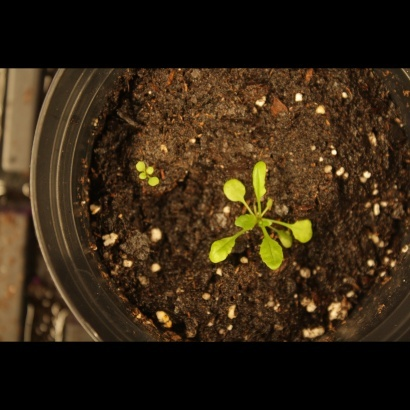leaf: (250, 156, 276, 204), (255, 235, 285, 273), (206, 234, 239, 267), (287, 216, 319, 246), (220, 176, 251, 206), (234, 211, 260, 235), (149, 175, 172, 198), (124, 151, 147, 174), (273, 228, 296, 251)
